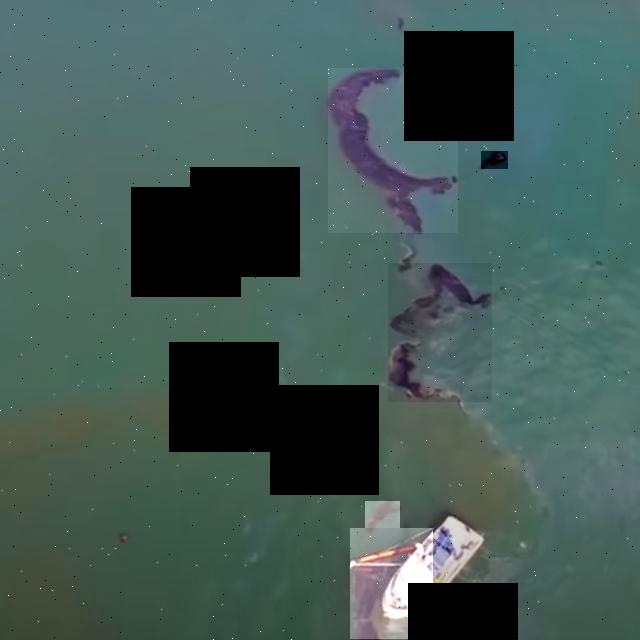oil spill: (328, 69, 458, 233), (388, 263, 492, 402), (351, 529, 433, 639), (365, 501, 400, 534), (481, 152, 508, 169)
